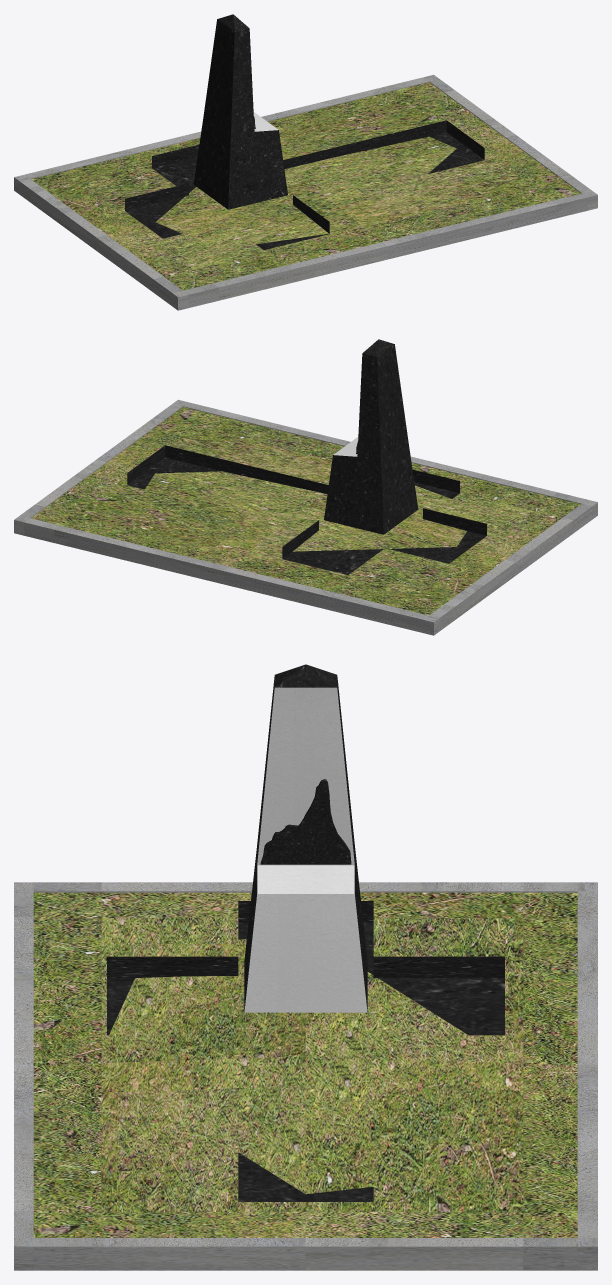
The model's file is MonumentoDedoDeDeus2.gltf.
3 renders of one model, top to bottom at view 1: azimuth 30°, elevation 25°; view 2: azimuth 150°, elevation 25°; view 3: azimuth 270°, elevation 25°, orthographic. The views are drawn at different scales.
Visible parts, largest first — view 1: Plano; view 2: Plano; view 3: Plano.
Boxes of the visible parts, x1,y1,x2,y2 form: Plano: [14, 14, 597, 310]; Plano: [14, 339, 597, 635]; Plano: [14, 664, 597, 1270].
Bounding box in the file's own units: 1.71 × 0.7874 × 1.15.
Materials: 3 (3 with a texture image).
